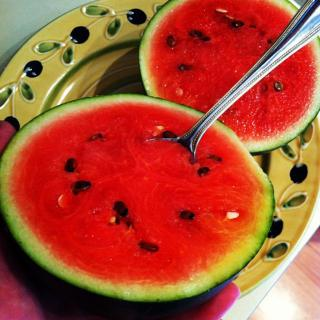Watermelon: (0, 94, 279, 313), (138, 0, 320, 154)
